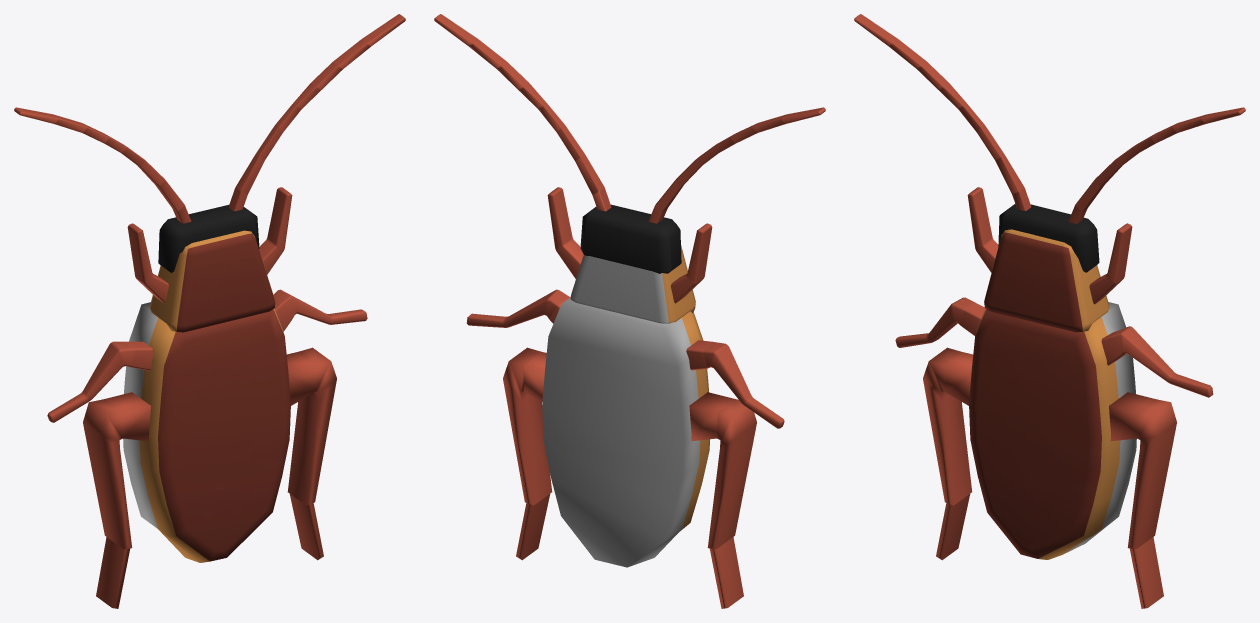
Rendered from cockroach.fbx.
3 renders of one model, left to right at view 1: azimuth 30°, elevation 25°; view 2: azimuth 150°, elevation 25°; view 3: azimuth 330°, elevation 25°, orthographic.
Parts seen in each view (by area): view 1: pCube1, pCube5, pCube2, pCube7, pCube3, pCube6, polySurface1, polySurface2; view 2: pCube1, pCube5, pCube2, pCube7, pCube3, pCube6, polySurface1, polySurface2; view 3: pCube1, pCube5, pCube2, pCube7, pCube3, pCube6, polySurface2, polySurface1.
Part boxes in pixels (x1,y1,x2,y2): pCube1: [123, 302, 290, 562]; pCube5: [83, 347, 336, 608]; pCube2: [150, 230, 275, 332]; pCube7: [14, 14, 405, 223]; pCube3: [158, 205, 259, 272]; pCube6: [127, 187, 292, 303]; polySurface1: [47, 341, 153, 422]; polySurface2: [273, 289, 367, 331]; pCube1: [542, 297, 709, 567]; pCube5: [503, 347, 756, 608]; pCube2: [570, 245, 695, 323]; pCube7: [434, 14, 825, 223]; pCube3: [580, 204, 681, 273]; pCube6: [547, 187, 712, 303]; polySurface1: [686, 340, 784, 428]; polySurface2: [466, 289, 570, 327]; pCube1: [969, 302, 1136, 559]; pCube5: [923, 347, 1176, 608]; pCube2: [984, 229, 1109, 332]; pCube7: [854, 14, 1245, 223]; pCube3: [998, 204, 1099, 272]; pCube6: [967, 187, 1132, 304]; polySurface2: [1101, 326, 1213, 397]; polySurface1: [895, 297, 985, 347].
Size of the model in its own units: 3.2 by 4.08 by 0.5038.
Materials: 2 (1 with a texture image).
